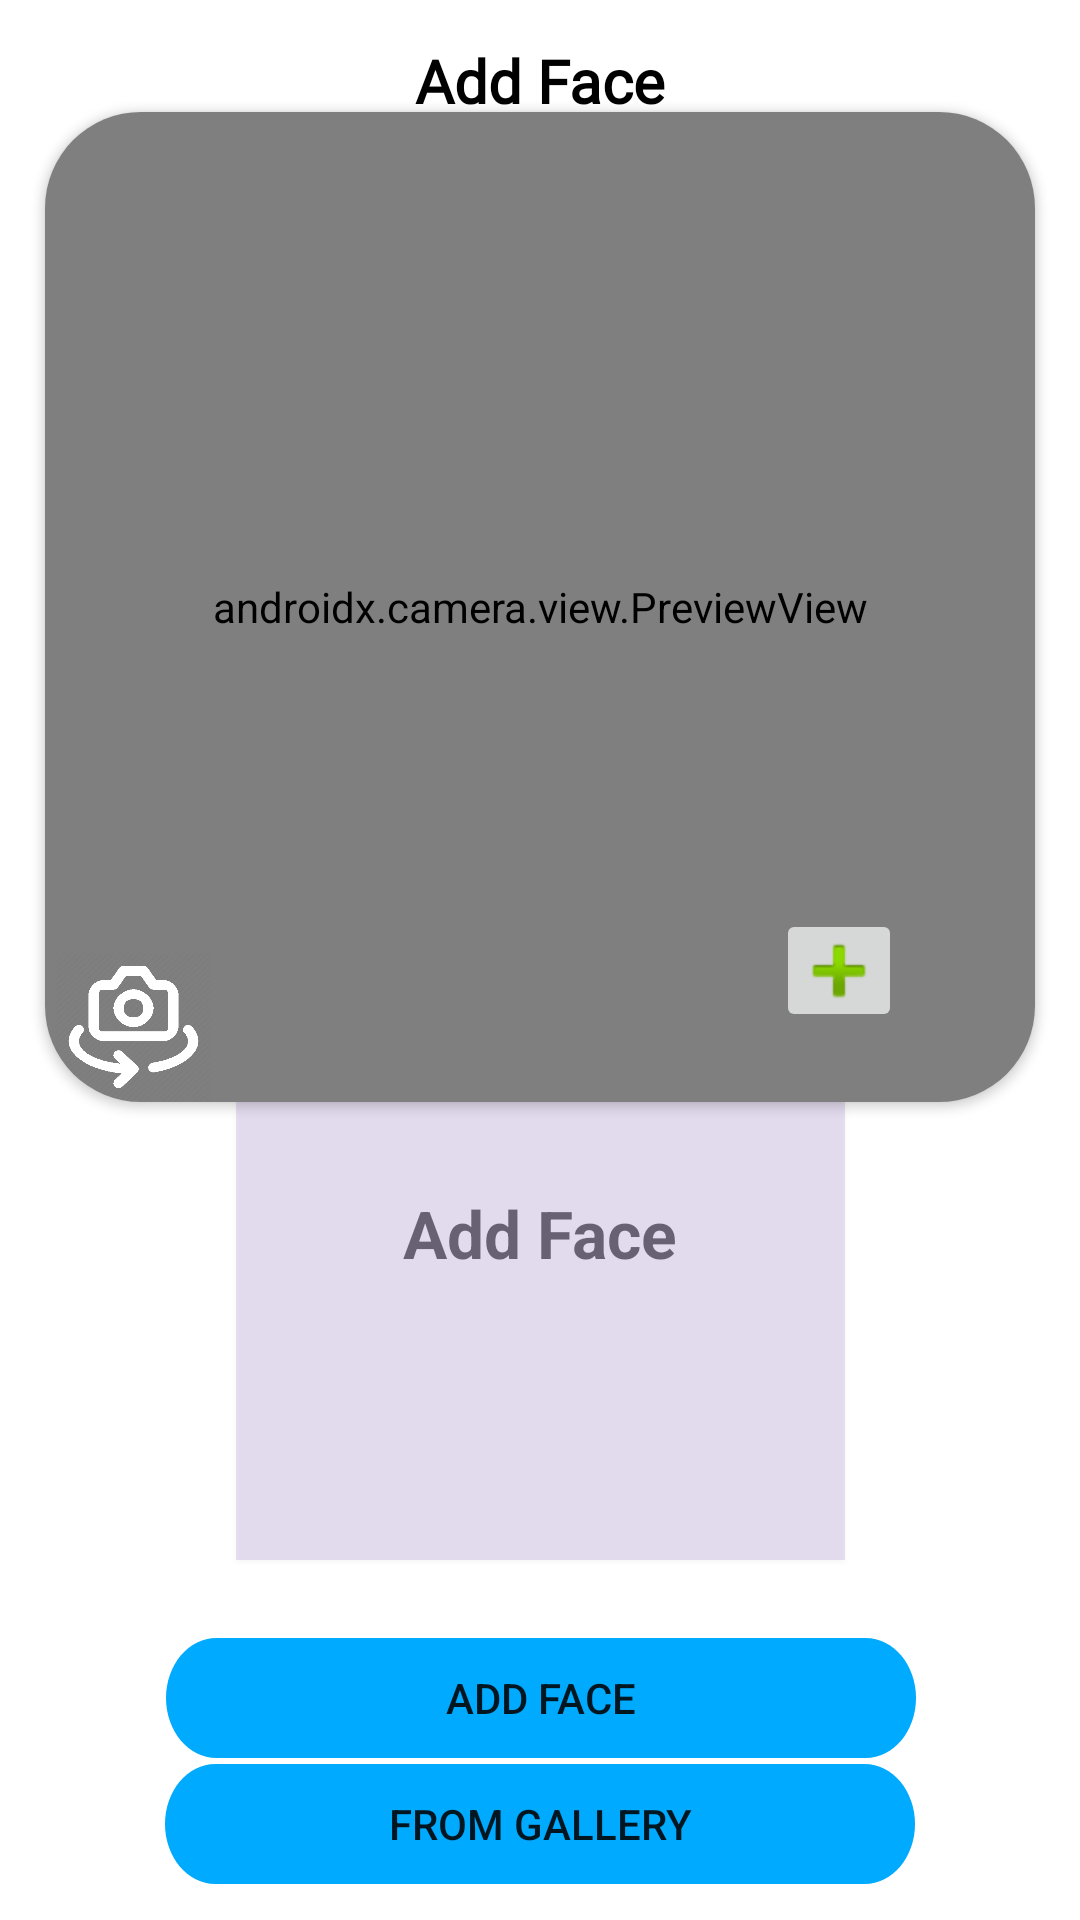

Icons on this 1080px×1920px Android screen, each with the point to tap as (x,y):
add: (839,970)
cam: (133,1027)
